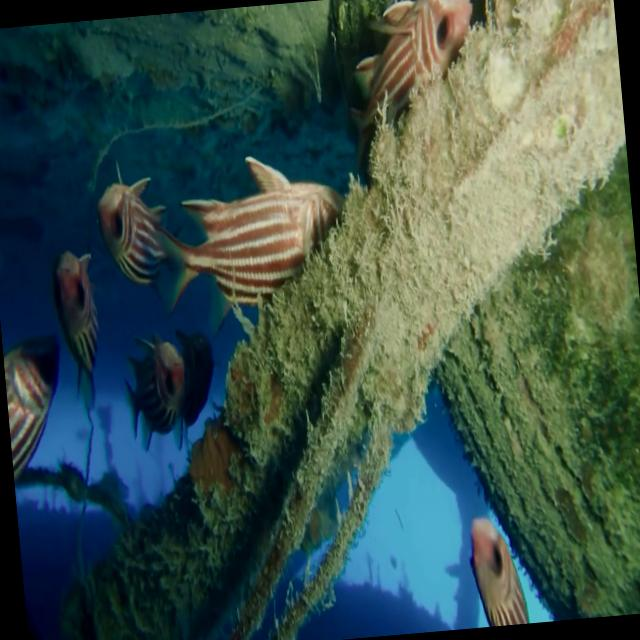Asker Baligi: (143, 145, 354, 322), (336, 0, 484, 127), (36, 225, 106, 402), (94, 152, 178, 290), (116, 332, 196, 452), (461, 506, 525, 628)
